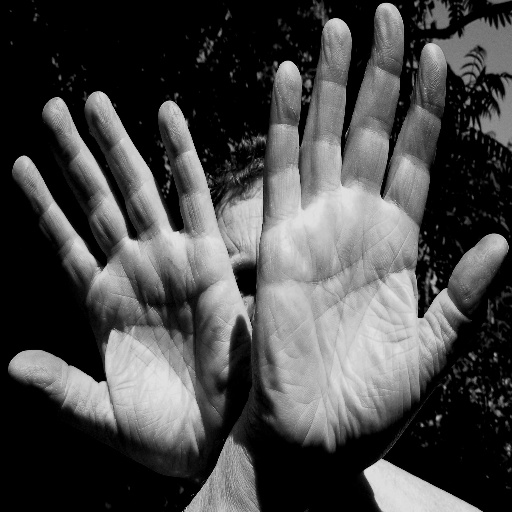hand: (247, 1, 505, 474), (5, 90, 253, 483)
